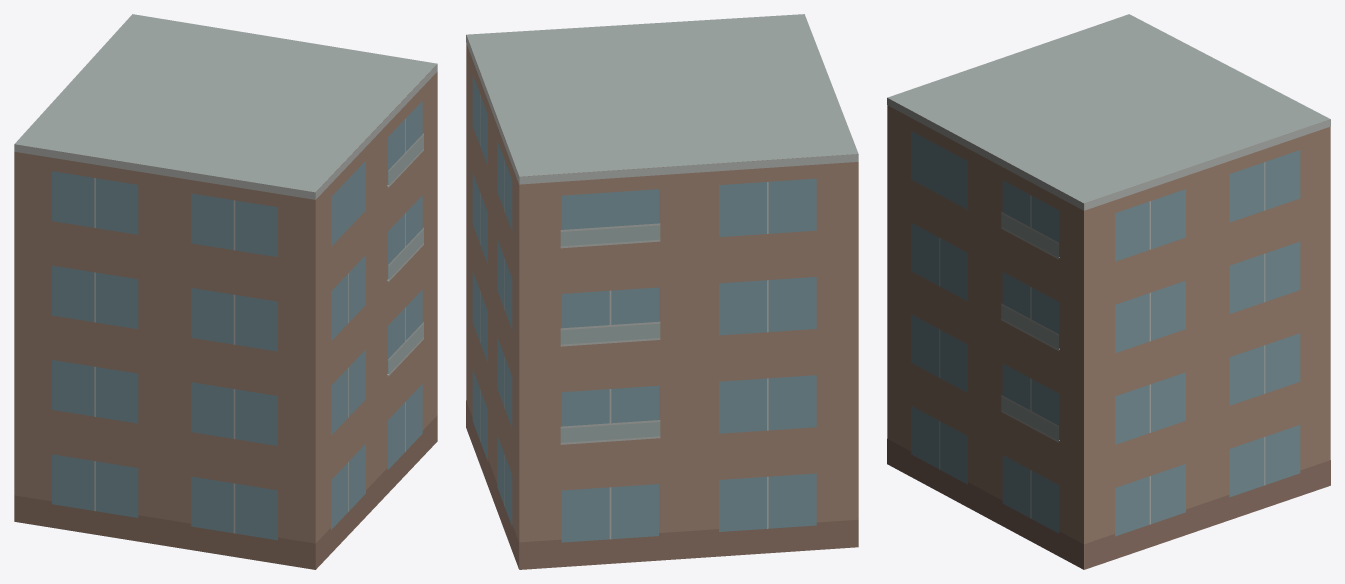
The model's file is survey-upis-32686417.glb.
3 views of the same model, side by side, from view 1: azimuth 30°, elevation 25°; view 2: azimuth 150°, elevation 25°; view 3: azimuth 270°, elevation 25° (orthographic). The views are drawn at different scales.
Parts seen in each view (by area): view 1: survey-upis-32686417.tmp; view 2: survey-upis-32686417.tmp; view 3: survey-upis-32686417.tmp.
Boxes of the visible parts, x1,y1,x2,y2 form: survey-upis-32686417.tmp: (14, 14, 437, 569); survey-upis-32686417.tmp: (466, 14, 858, 569); survey-upis-32686417.tmp: (887, 14, 1330, 569).
Bounding box in the file's own units: 13.54 × 12.2 × 13.4.
